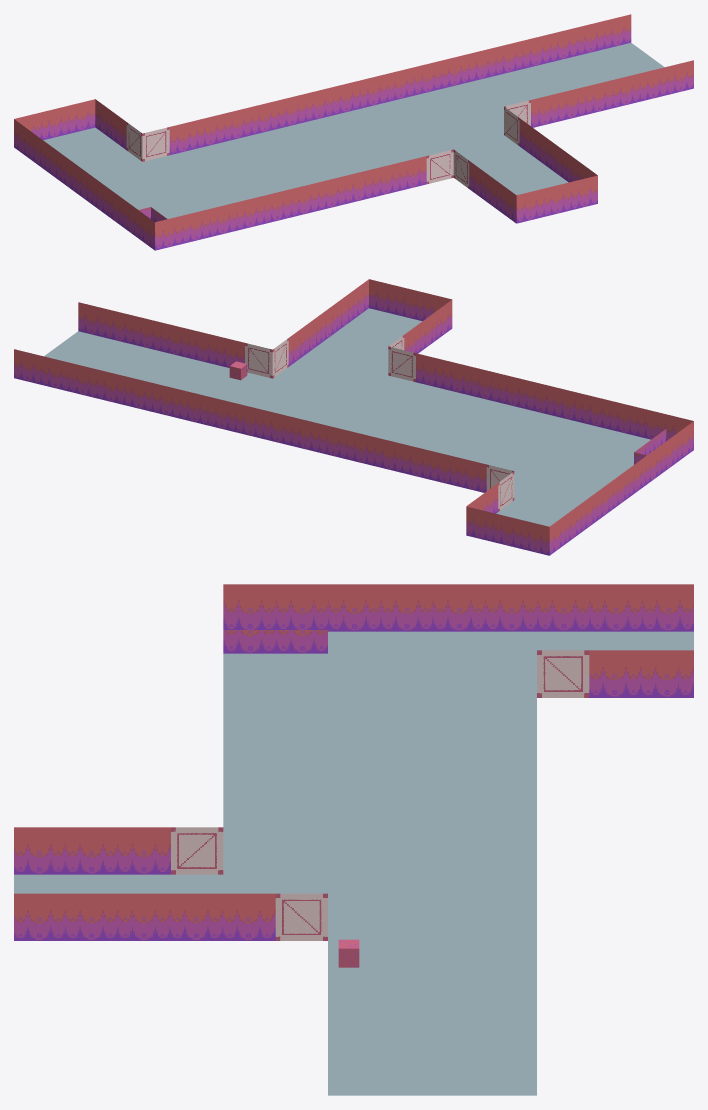
File: sprite.obj
3 views of the same model, one above another, from view 1: azimuth 30°, elevation 25°; view 2: azimuth 150°, elevation 25°; view 3: azimuth 270°, elevation 25° (orthographic). The views are drawn at different scales.
Parts seen in each view (by area): view 1: Scene; view 2: Scene; view 3: Scene.
Boxes of the visible parts, x1,y1,x2,y2 form: Scene: [14, 14, 693, 250]; Scene: [14, 279, 693, 555]; Scene: [14, 584, 693, 1095].
Size of the model in its own units: 21 by 1 by 13.
Materials: 1 (1 with a texture image).
